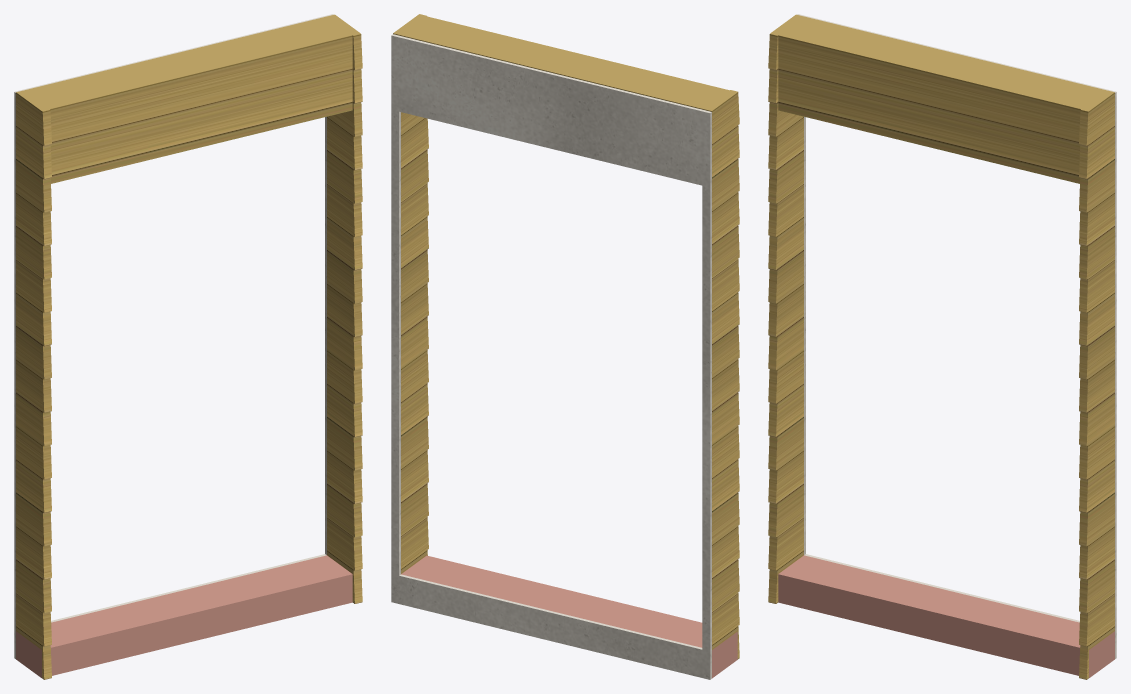
File: f_u_bay_a.glb
The picture shows the model from 3 angles, left to right: view 1: azimuth 30°, elevation 25°; view 2: azimuth 150°, elevation 25°; view 3: azimuth 330°, elevation 25°; orthographic projection.
Visible parts, largest first — view 1: f_u_bay_a_siding_a, f_u_bay_a_acc_a, f_u_bay_a_plaster; view 2: f_u_bay_a_plaster, f_u_bay_a_siding_a, f_u_bay_a_acc_a; view 3: f_u_bay_a_siding_a, f_u_bay_a_acc_a, f_u_bay_a_plaster.
Part boxes in pixels (x1=…): f_u_bay_a_siding_a: x1=16, y1=14, x2=362, y2=679; f_u_bay_a_acc_a: x1=16, y1=555, x2=352, y2=677; f_u_bay_a_plaster: x1=14, y1=14, x2=333, y2=658; f_u_bay_a_plaster: x1=391, y1=34, x2=711, y2=679; f_u_bay_a_siding_a: x1=393, y1=14, x2=739, y2=659; f_u_bay_a_acc_a: x1=401, y1=555, x2=737, y2=678; f_u_bay_a_siding_a: x1=768, y1=14, x2=1114, y2=679; f_u_bay_a_acc_a: x1=778, y1=555, x2=1114, y2=677; f_u_bay_a_plaster: x1=797, y1=14, x2=1116, y2=658.
Size of the model in its own units: 2 by 3.4 by 0.324.
3 materials, 2 textured.
